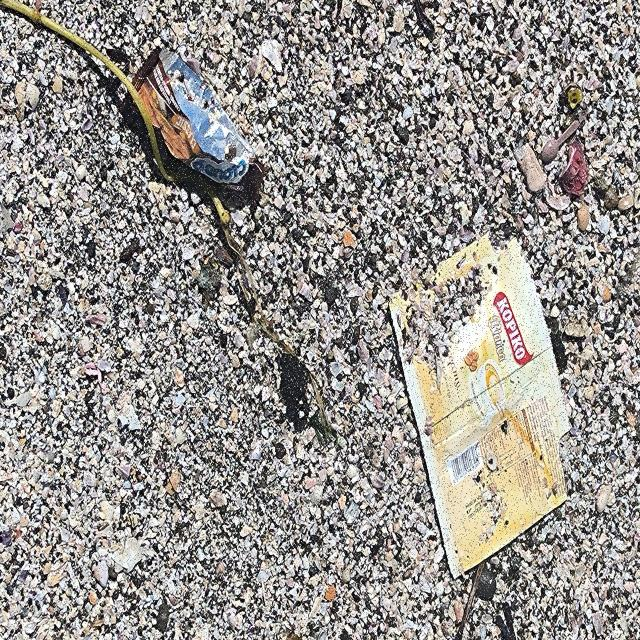plastic_waste: (387, 233, 574, 584), (111, 46, 271, 217)
